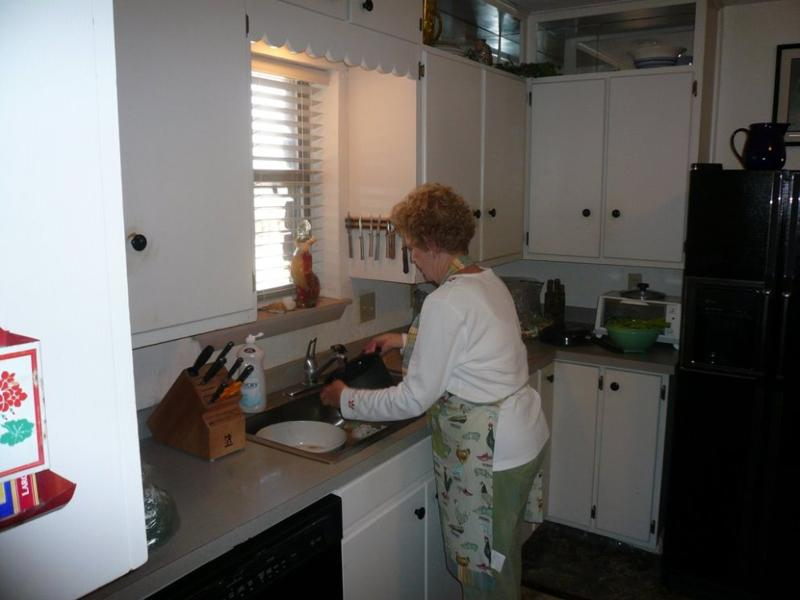person: (317, 184, 550, 600)
